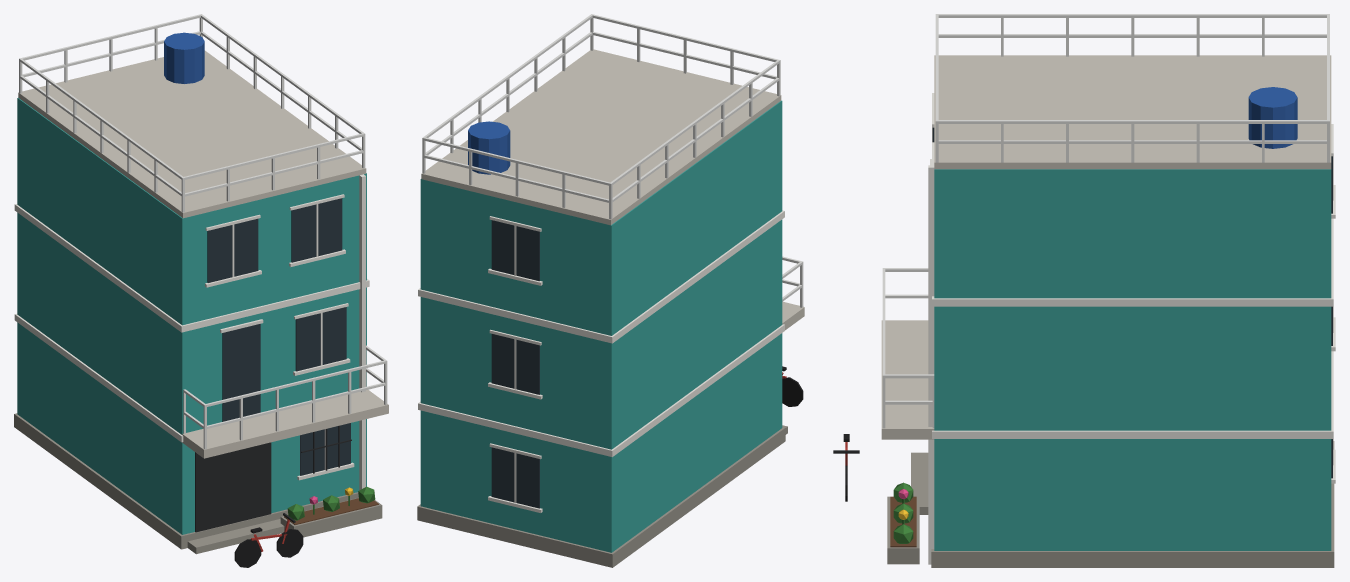
File: BAY_F_ThreeStorey_R.glb
The picture shows the model from 3 angles, left to right: view 1: azimuth 30°, elevation 25°; view 2: azimuth 150°, elevation 25°; view 3: azimuth 270°, elevation 25°; orthographic projection. The views are drawn at different scales.
Parts seen in each view (by area): view 1: BAY_F_ThreeStorey_R; view 2: BAY_F_ThreeStorey_R; view 3: BAY_F_ThreeStorey_R.
Boxes of the visible parts, left/top/right/bottom form: BAY_F_ThreeStorey_R: left=14, top=14, right=388, bottom=567; BAY_F_ThreeStorey_R: left=417, top=14, right=804, bottom=567; BAY_F_ThreeStorey_R: left=833, top=14, right=1335, bottom=567.
Size of the model in its own units: 4.5 by 8.4 by 8.6.
Materials: 1 (1 with a texture image).
